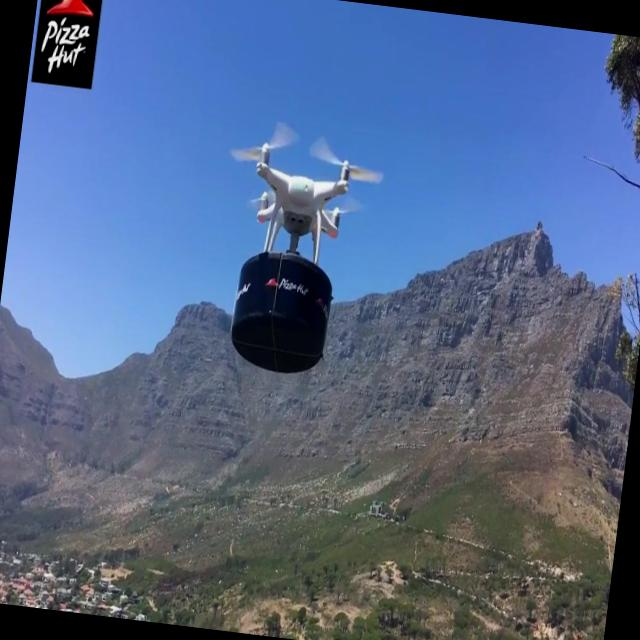drone: (220, 111, 392, 268)
